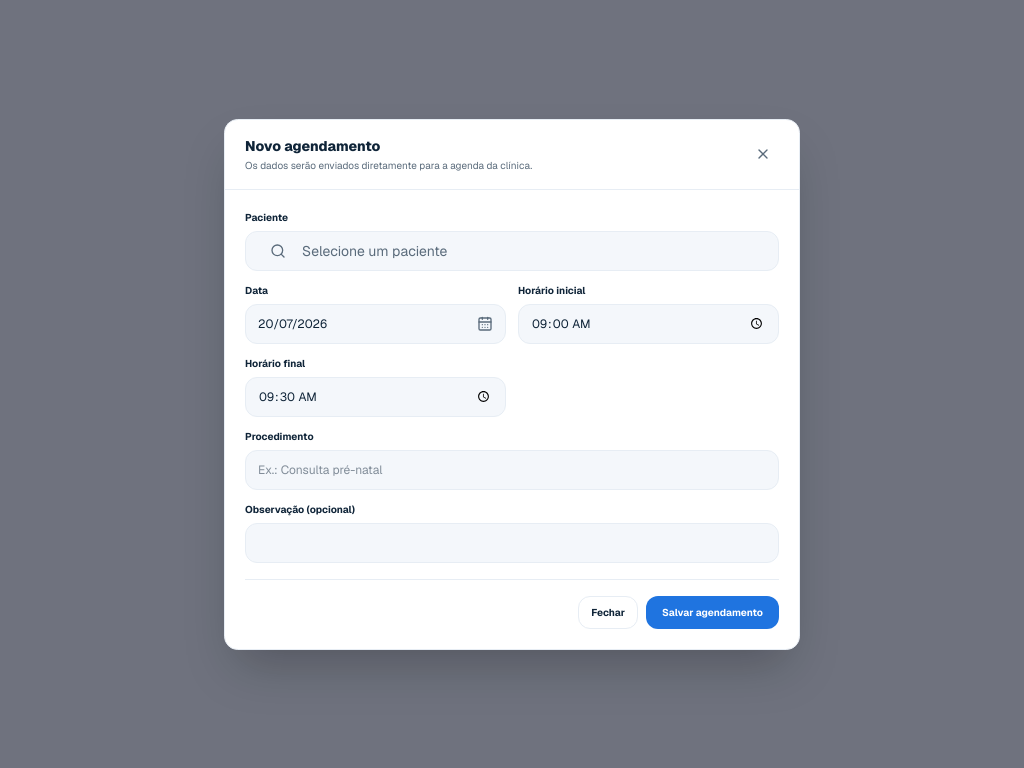
Test: AgendamentoModal › should_disable_submit_button_while_saving_to_prevent_double_click
Click the dropdown labelled "Paciente".
click(530, 250)  # box x1=294 y1=232 x2=766 y2=270
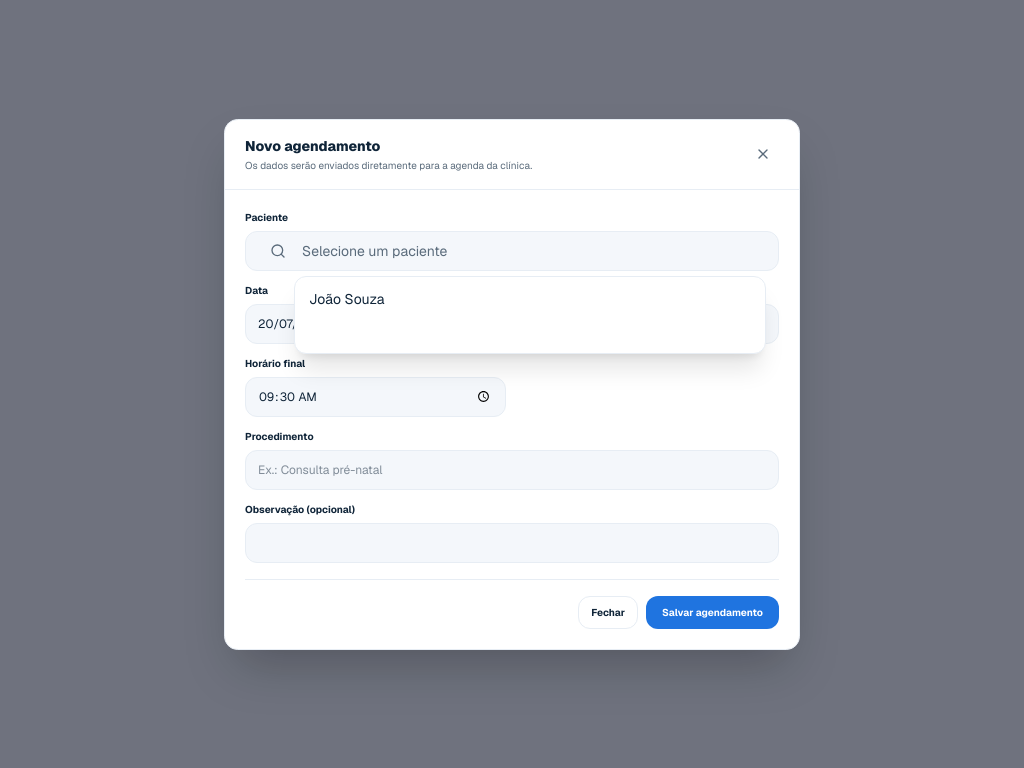
Click the option "João Souza".
click(347, 299)  # box x1=309 y1=290 x2=384 y2=308
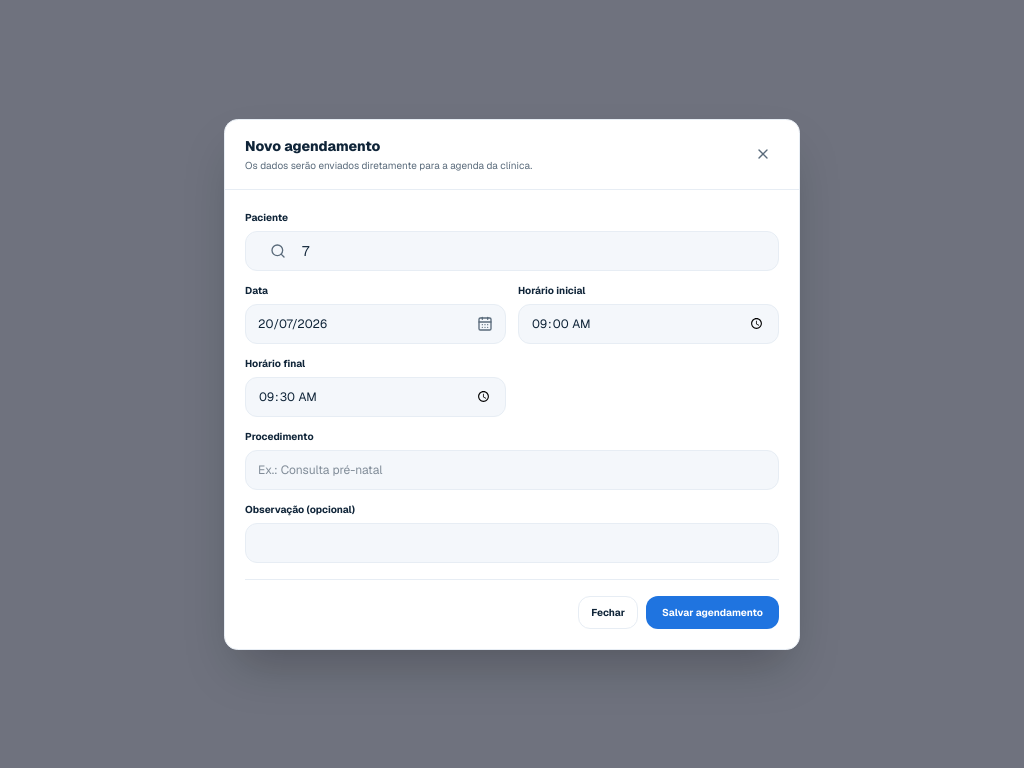
Click the button "Salvar agendamento".
click(712, 612)  # box x1=646 y1=596 x2=779 y2=628
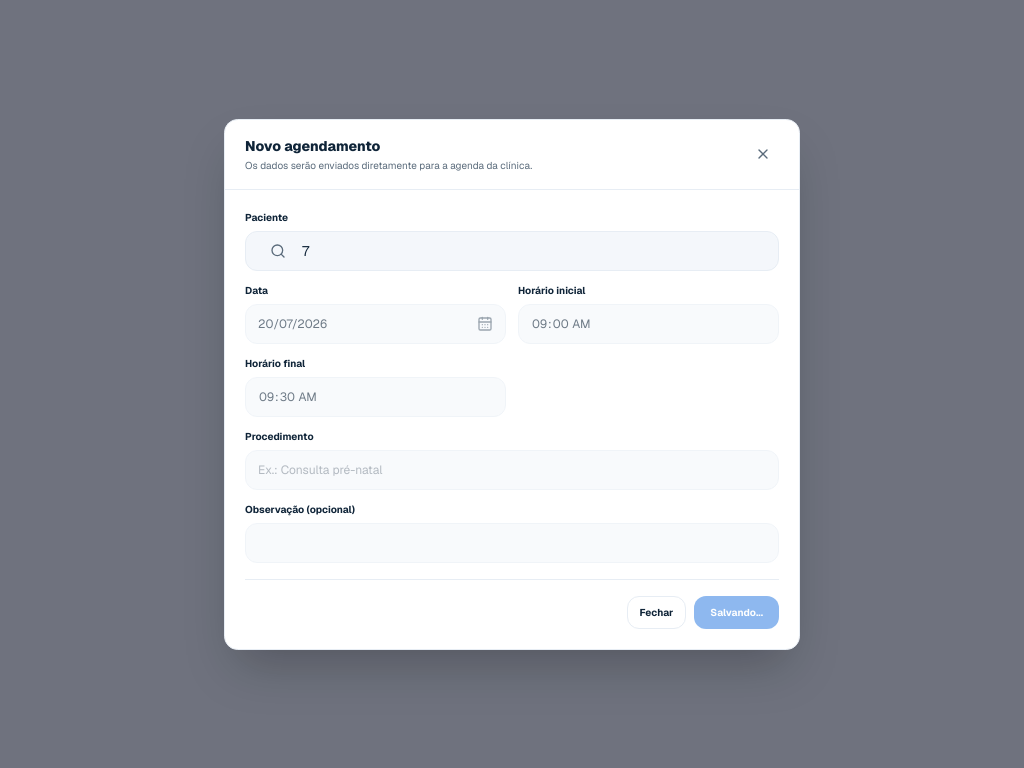
Expected: the button "Salvando..." is disabled, x1=694 y1=596 x2=779 y2=628
